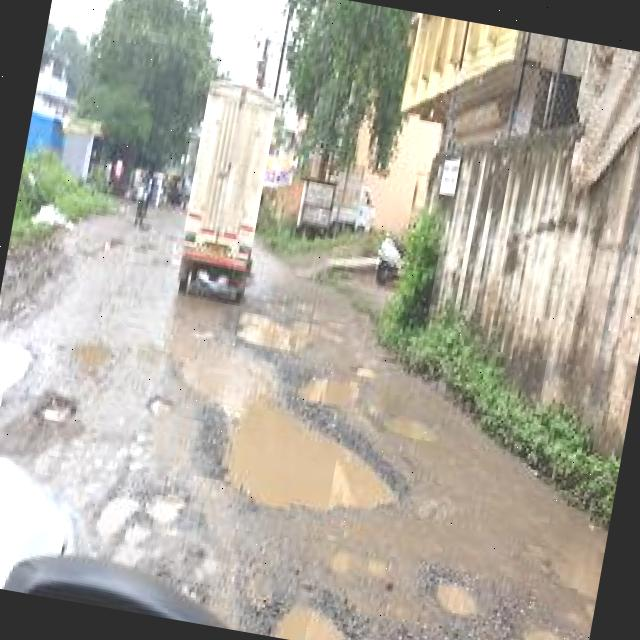stagnation: (226, 389, 409, 522), (236, 304, 314, 368), (426, 570, 482, 622)
